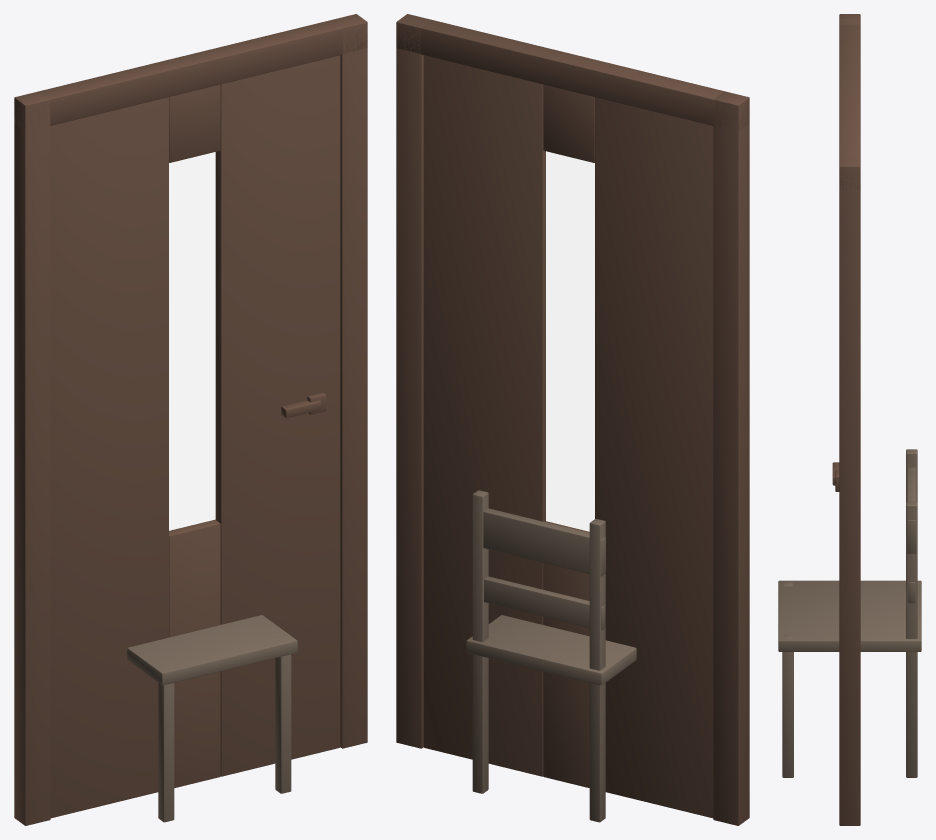
File: props.glb
The picture shows the model from 3 angles, left to right: view 1: azimuth 30°, elevation 25°; view 2: azimuth 150°, elevation 25°; view 3: azimuth 270°, elevation 25°; orthographic projection. The views are drawn at different scales.
Parts seen in each view (by area): view 1: door_leaf, door_glass, chair; view 2: door_leaf, chair, door_glass; view 3: door_leaf, chair.
Part boxes in pixels (bbox=[...]): door_leaf: bbox=[14, 14, 367, 825]; door_glass: bbox=[169, 152, 215, 530]; chair: bbox=[127, 615, 297, 822]; door_leaf: bbox=[396, 14, 749, 825]; chair: bbox=[466, 490, 636, 822]; door_glass: bbox=[546, 151, 594, 531]; door_leaf: bbox=[832, 14, 860, 825]; chair: bbox=[778, 449, 921, 777].
Size of the model in its own units: 1.06 by 2.13 by 0.4199.
